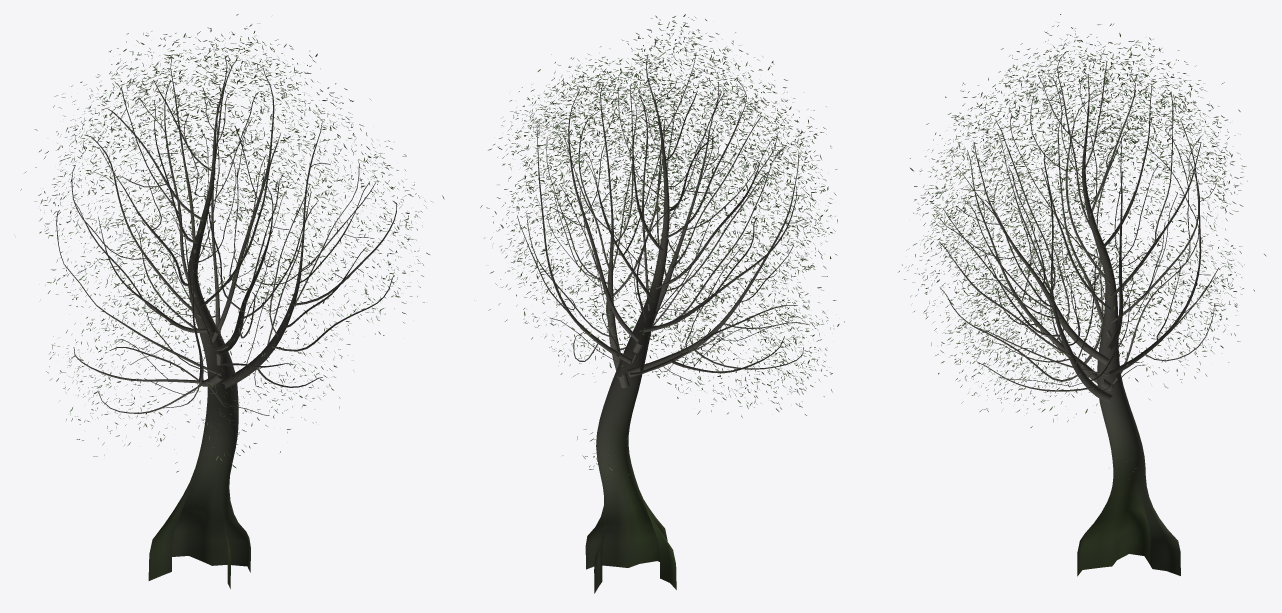
Rendered from SM_Tree_willow_0.glb.
3 views of the same model, side by side, from view 1: azimuth 30°, elevation 25°; view 2: azimuth 150°, elevation 25°; view 3: azimuth 270°, elevation 25° (orthographic). The views are drawn at different scales.
Parts seen in each view (by area): view 1: SM_Tree_willow_0; view 2: SM_Tree_willow_0; view 3: SM_Tree_willow_0.
Part boxes in pixels (x1,y1,x2,y2): SM_Tree_willow_0: (20, 14, 444, 588); SM_Tree_willow_0: (474, 14, 844, 593); SM_Tree_willow_0: (898, 14, 1266, 576).
Bounding box in the file's own units: 7.95 × 12.48 × 8.05.
